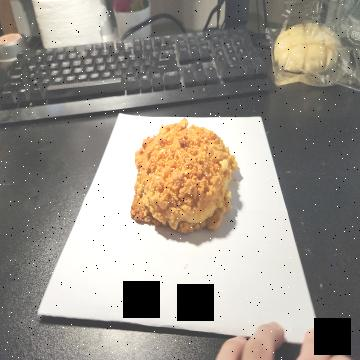soboru_bread: (131, 114, 237, 240)
